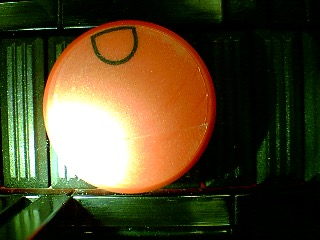MIPO1: (42, 20, 217, 194)
